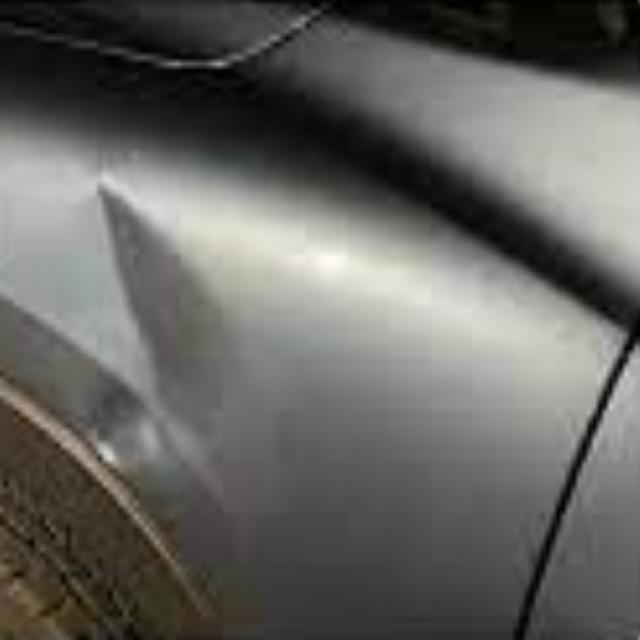dents: (71, 162, 265, 502)
